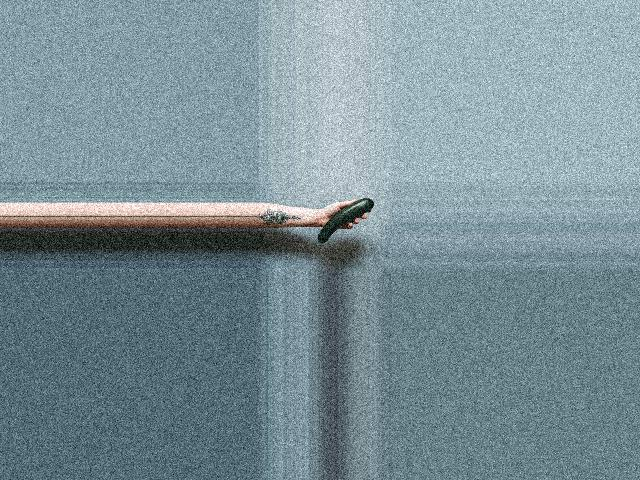cucumber: (318, 198, 374, 243)
